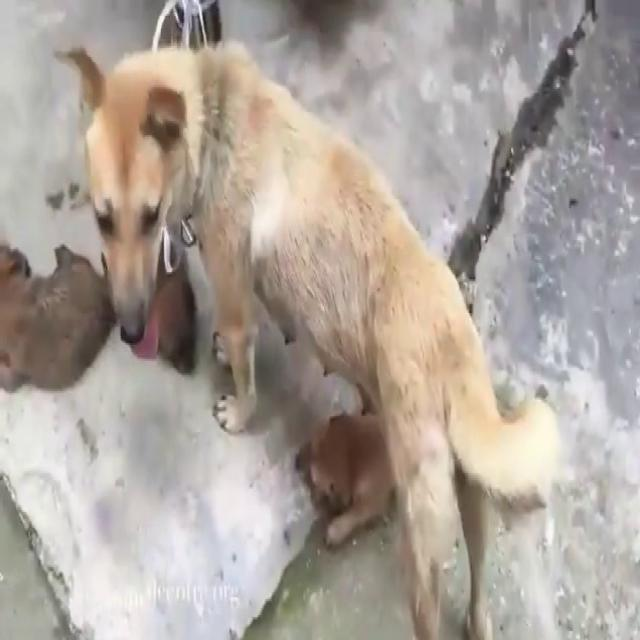normal_animals: (52, 30, 564, 631)
